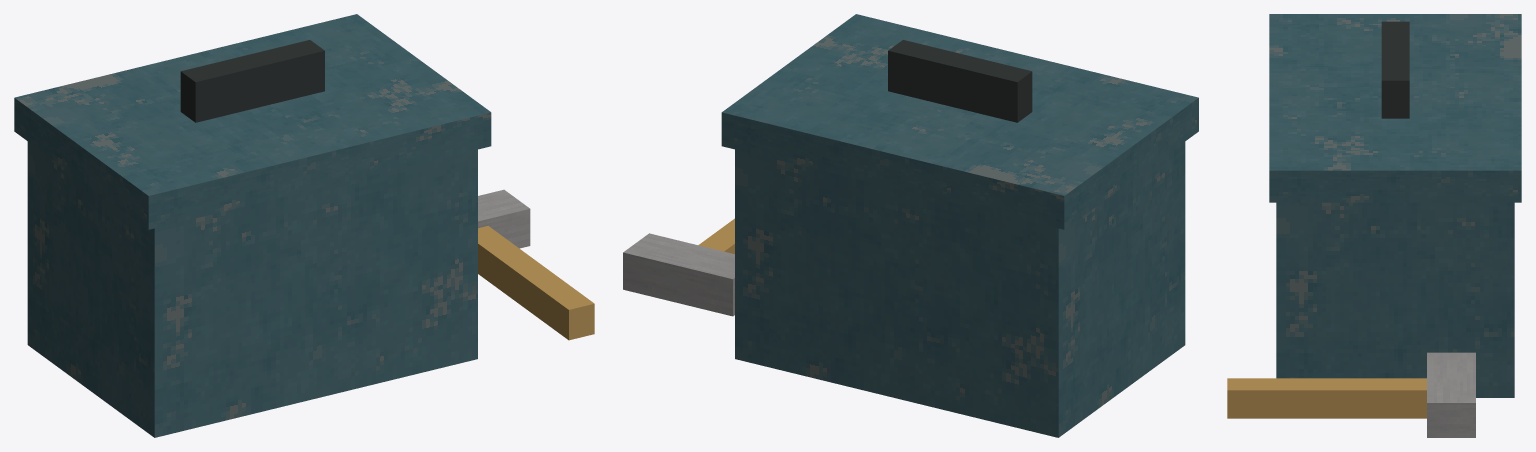
File: city_repair_kit.glb
The picture shows the model from 3 angles, left to right: view 1: azimuth 30°, elevation 25°; view 2: azimuth 150°, elevation 25°; view 3: azimuth 270°, elevation 25°; orthographic projection. The views are drawn at different scales.
Visible parts, largest first — view 1: root; view 2: root; view 3: root.
Boxes of the visible parts, x1=… form: root: x1=14, y1=14, x2=594, y2=437; root: x1=623, y1=14, x2=1198, y2=437; root: x1=1227, y1=14, x2=1521, y2=437.
Bounding box in the file's own units: 0.72 × 0.43 × 0.42.
Materials: 1 (1 with a texture image).
